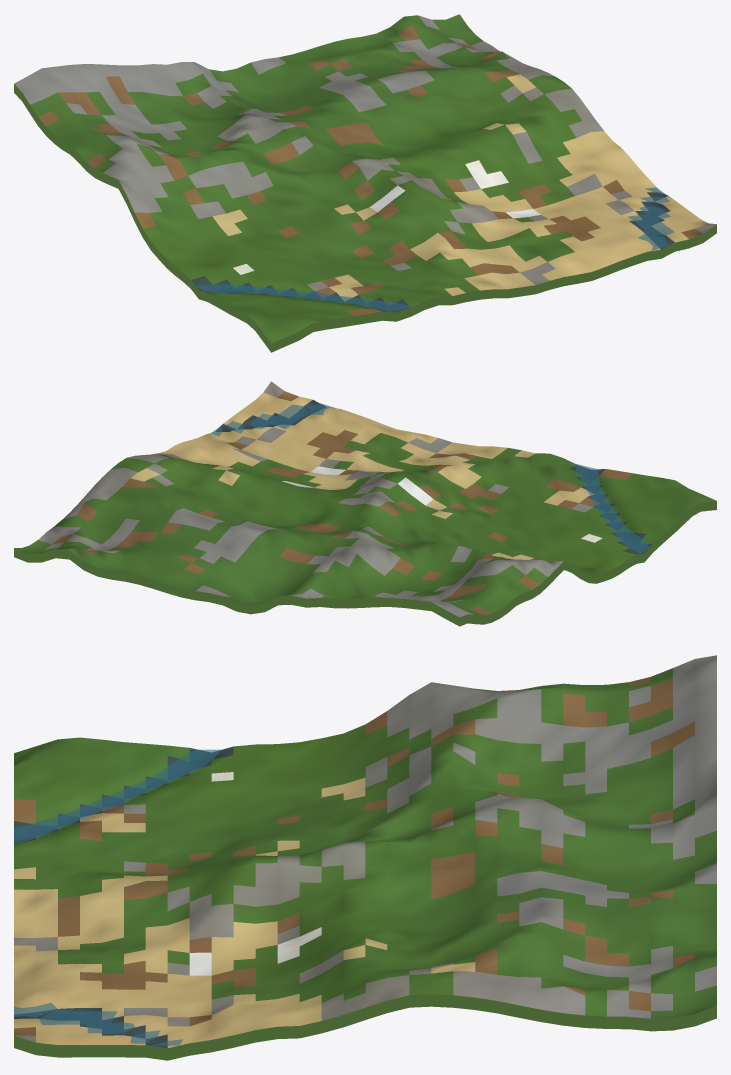
The model's file is chunk_5_3_lod1.glb.
3 renders of one model, top to bottom at view 1: azimuth 30°, elevation 25°; view 2: azimuth 150°, elevation 25°; view 3: azimuth 270°, elevation 25°, orthographic. The views are drawn at different scales.
Parts seen in each view (by area): view 1: Surface_Grass, Surface_Gravel, Surface_Sand, Surface_Dirt, Skirt, Water, Surface_Water, Surface_Snow; view 2: Surface_Grass, Surface_Sand, Surface_Gravel, Skirt, Surface_Dirt, Water, Surface_Water, Surface_Snow; view 3: Surface_Grass, Surface_Gravel, Surface_Sand, Surface_Dirt, Skirt, Water, Surface_Water, Surface_Snow.
Boxes of the visible parts, x1,y1,x2,y2 form: Surface_Grass: (30, 14, 582, 343); Surface_Gravel: (14, 15, 716, 290); Surface_Sand: (212, 74, 708, 301); Surface_Dirt: (38, 25, 702, 315); Skirt: (14, 84, 716, 352); Water: (196, 187, 674, 311); Surface_Water: (191, 192, 674, 312); Surface_Snow: (233, 160, 540, 274); Surface_Grass: (14, 433, 716, 615); Surface_Sand: (130, 392, 594, 559); Surface_Gravel: (38, 381, 592, 617); Skirt: (14, 501, 716, 626); Surface_Dirt: (52, 391, 632, 615); Water: (211, 403, 649, 553); Surface_Water: (215, 400, 652, 554); Surface_Snow: (282, 466, 602, 542); Surface_Grass: (14, 668, 716, 1018); Surface_Gravel: (14, 655, 716, 1042); Surface_Sand: (14, 778, 475, 1047); Surface_Dirt: (14, 677, 694, 1035); Skirt: (14, 994, 716, 1060); Water: (14, 749, 221, 1045); Surface_Water: (14, 746, 233, 1048); Surface_Snow: (189, 772, 321, 975).
Size of the model in its own units: 256 by 52.62 by 256.
